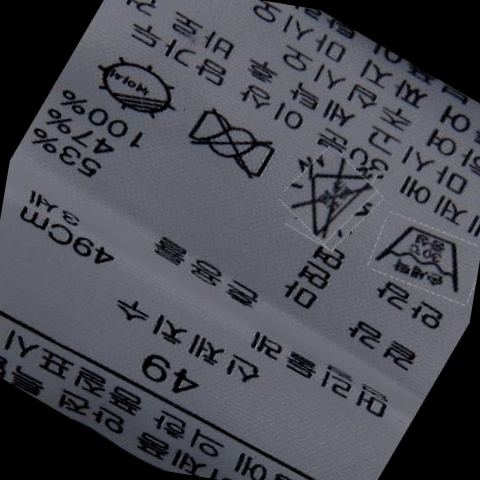DN_wring: (181, 110, 289, 177)
dry_flat_in_shade: (88, 53, 188, 123)
hand_wash: (374, 223, 473, 295)
non_chlorine_bleach: (286, 163, 373, 243)
